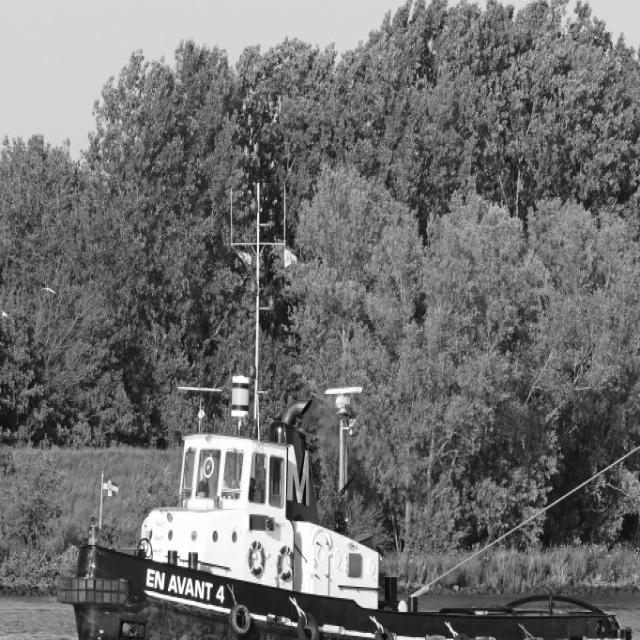tugboat: (57, 180, 636, 640)
